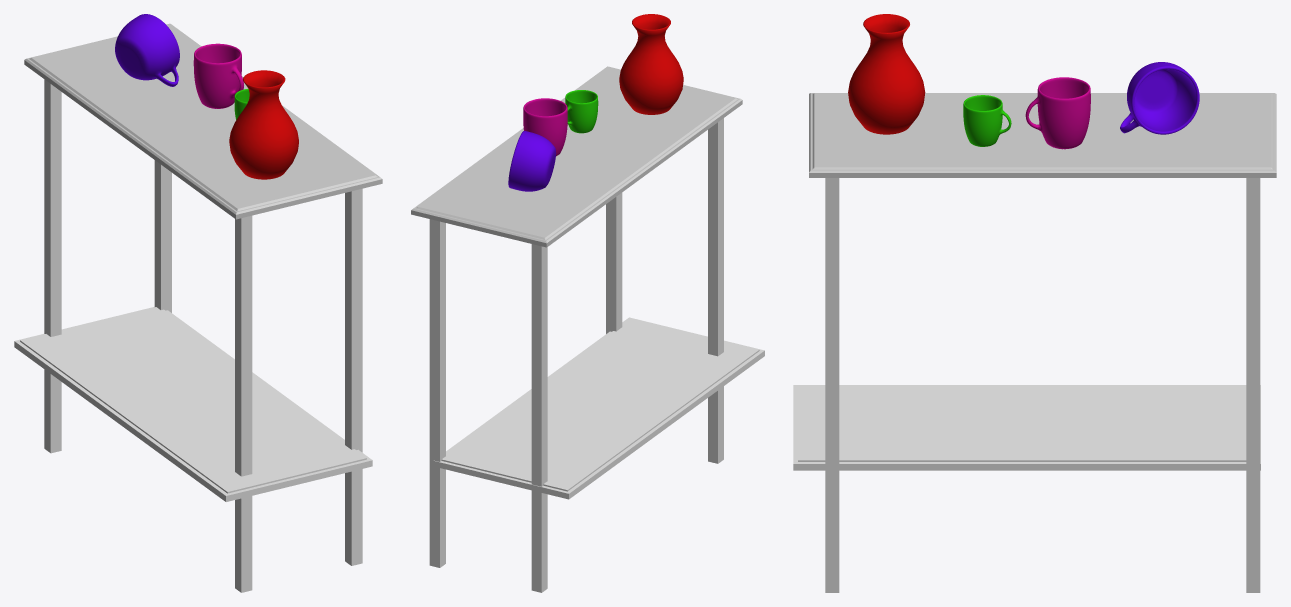
File: table_tutorial_color.dae
The picture shows the model from 3 angles, left to right: view 1: azimuth 30°, elevation 25°; view 2: azimuth 150°, elevation 25°; view 3: azimuth 270°, elevation 25°; orthographic projection. The views are drawn at different scales.
Parts seen in each view (by area): view 1: Plane_001, Plane, Cube_001, Cube_003, Cube_002, BezierCurve, BezierCurve_003, BezierCurve_002, Cube; view 2: Plane_001, Plane, Cube, Cube_002, Cube_003, BezierCurve, Cube_001, BezierCurve_003, BezierCurve_002, BezierCurve_001; view 3: Plane_001, Plane, BezierCurve, Cube, Cube_001, BezierCurve_003, BezierCurve_002, BezierCurve_001.
Part boxes in pixels (bbox=[...]): Plane_001: bbox=[14, 307, 372, 501]; Plane: bbox=[24, 23, 382, 219]; Cube_001: bbox=[345, 188, 362, 565]; Cube_003: bbox=[235, 215, 252, 592]; Cube_002: bbox=[44, 79, 61, 453]; BezierCurve: bbox=[229, 70, 298, 179]; BezierCurve_003: bbox=[115, 14, 179, 86]; BezierCurve_002: bbox=[193, 43, 243, 108]; Cube: bbox=[154, 160, 171, 312]; Plane_001: bbox=[433, 317, 764, 499]; Plane: bbox=[411, 66, 742, 247]; Cube: bbox=[429, 219, 445, 567]; Cube_002: bbox=[531, 244, 547, 592]; Cube_003: bbox=[708, 118, 723, 463]; BezierCurve: bbox=[619, 14, 683, 114]; Cube_001: bbox=[606, 192, 622, 333]; BezierCurve_003: bbox=[508, 131, 556, 191]; BezierCurve_002: bbox=[523, 98, 567, 156]; BezierCurve_001: bbox=[565, 90, 598, 133]; Plane_001: bbox=[793, 385, 1260, 470]; Plane: bbox=[809, 93, 1276, 177]; BezierCurve: bbox=[848, 14, 925, 134]; Cube: bbox=[1246, 178, 1260, 592]; Cube_001: bbox=[825, 178, 839, 592]; BezierCurve_003: bbox=[1120, 62, 1199, 134]; BezierCurve_002: bbox=[1025, 77, 1090, 149]; BezierCurve_001: bbox=[963, 95, 1011, 146].
Size of what is drawn, in the model's own units: 0.8927 by 2.07 by 2.51.
